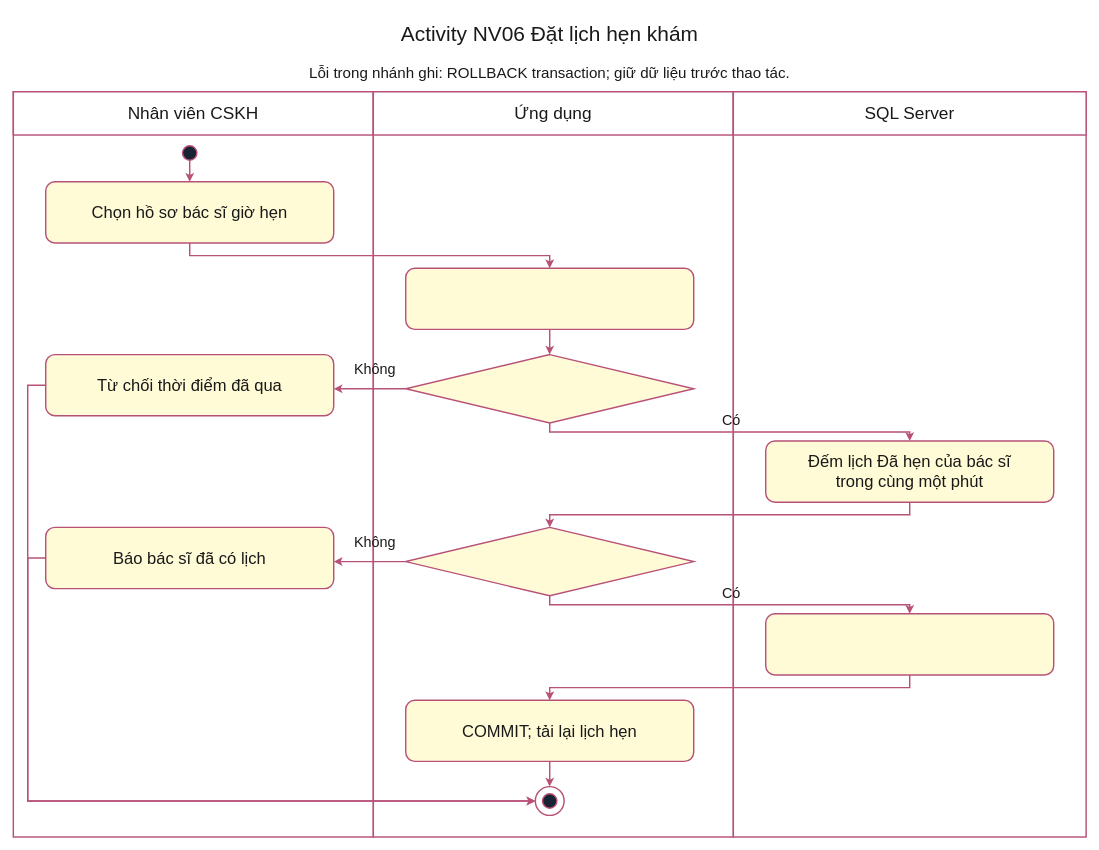
This 1099x850 diagram has some shape labels left out. The centre of each missing label's shape, as x and y in pixels:
Chuẩn hóa giây = 0: the point at 549,298
Giờ hẹn ở tương lai?: the point at 549,388
INSERT LichHen: Đã hẹn: the point at 909,644
Số lịch trùng = 0?: the point at 549,561
